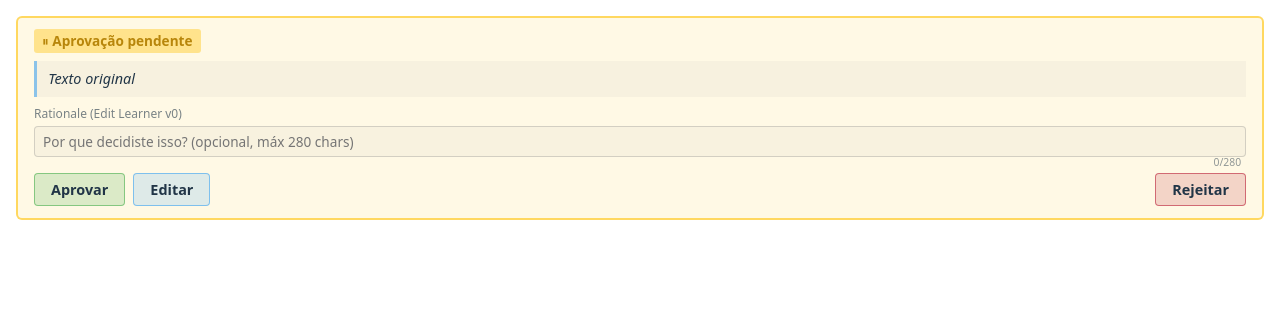
Scenario: ApprovalGate.svelte — actions › Editar revela textarea + botão 'Enviar editado'
The image size is (1280, 317).
Click the button with test id "edit-button" at (172, 190), box [133,173,210,206]
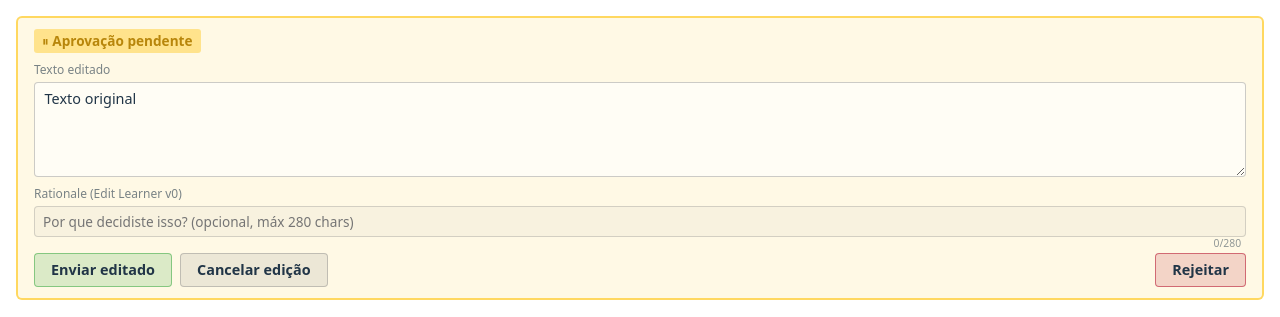
Result: the text box with test id "edit-textarea" is shown at [34,82,1246,177]
Result: the button with test id "approve-edited-button" is shown at [34,253,172,287]
